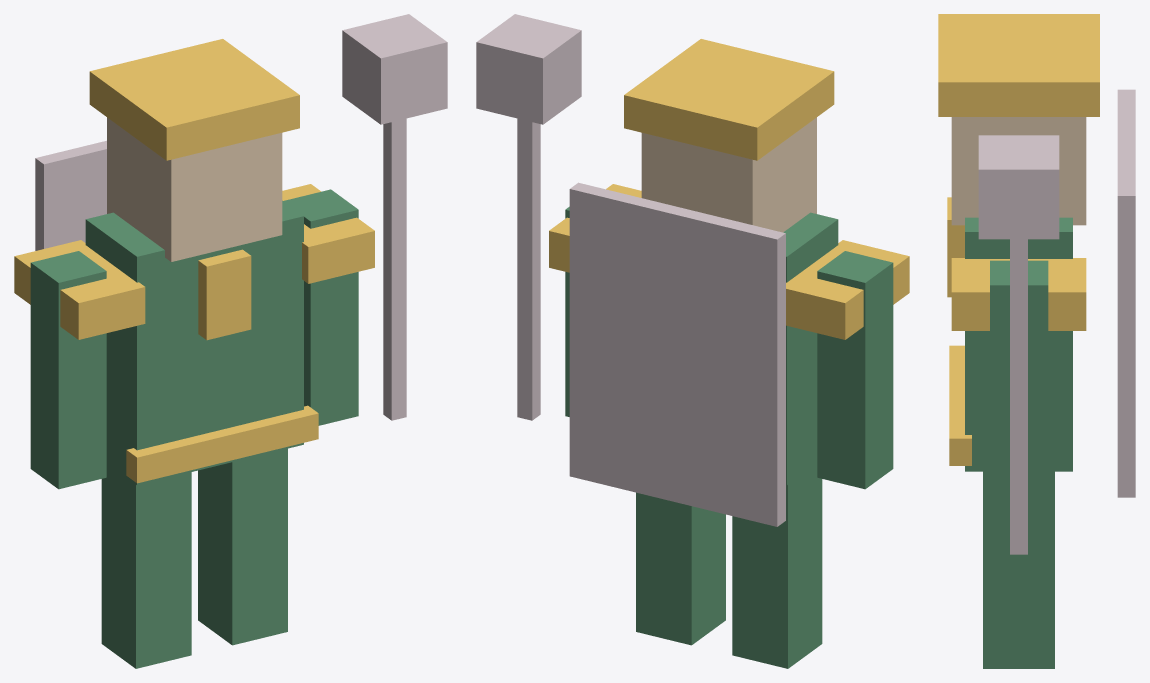
File: 02_rook_ashvein_diver_of.glb
3 views of the same model, side by side, from view 1: azimuth 30°, elevation 25°; view 2: azimuth 150°, elevation 25°; view 3: azimuth 270°, elevation 25° (orthographic). The views are drawn at different scales.
Visible parts, largest first — view 1: Rook Ashvein, Diver of; view 2: Rook Ashvein, Diver of; view 3: Rook Ashvein, Diver of.
Part boxes in pixels (x1,y1,x2,y2): Rook Ashvein, Diver of: (14, 14, 447, 668); Rook Ashvein, Diver of: (476, 14, 909, 668); Rook Ashvein, Diver of: (938, 14, 1135, 668).
Size of the model in its own units: 1.11 by 1.53 by 0.4716.
